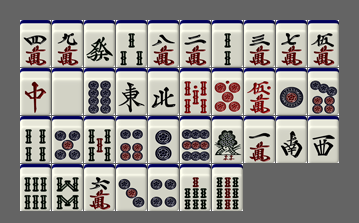0m: (244, 68, 275, 115)
0p: (212, 68, 243, 115)
0s: (180, 68, 211, 115)
1m: (244, 116, 275, 163)
1p: (276, 68, 307, 115)
1s: (212, 116, 243, 163)
1z: (116, 68, 147, 115)
2m: (180, 20, 211, 67)
2p: (148, 116, 179, 163)
2s: (212, 20, 243, 67)
2z: (276, 116, 307, 163)
3m: (244, 20, 275, 67)
3p: (116, 164, 147, 211)
3s: (116, 20, 147, 67)
3z: (308, 116, 339, 163)
4m: (20, 20, 51, 67)
4p: (148, 164, 179, 211)
4s: (20, 116, 51, 163)
4z: (148, 68, 179, 115)
5m: (308, 20, 339, 67)
5p: (52, 116, 83, 163)
5s: (84, 116, 115, 163)
5z: (52, 68, 83, 115)
6m: (84, 164, 115, 211)
6p: (116, 116, 147, 163)
6s: (20, 164, 51, 211)
6z: (84, 20, 115, 67)
7m: (276, 20, 307, 67)
7p: (308, 68, 339, 115)
7s: (180, 164, 211, 211)
7z: (20, 68, 51, 115)
8m: (148, 20, 179, 67)
8p: (84, 68, 115, 115)
8s: (52, 164, 83, 211)
9m: (52, 20, 83, 67)
9p: (180, 116, 211, 163)
9s: (212, 164, 243, 211)
